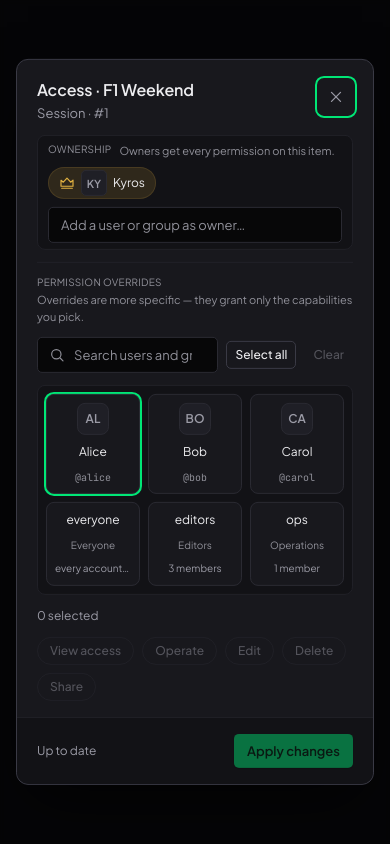
Test case: AccessPanel › keeps Apply disabled until the draft is dirty
Expected: the dropdown labelled "Search users and groups" is shown, [37,337,218,373]
Expected: the button "Apply changes" is disabled, [234,734,353,768]
Step 1. Click the option "BO Bob @bob" → [195, 444], box [148,394,242,494]
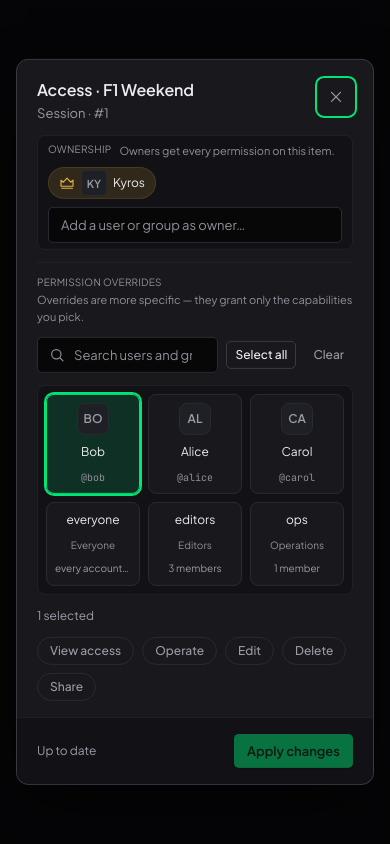
Step 2. Click the button "View access" → [86, 651], box [37,637,134,665]
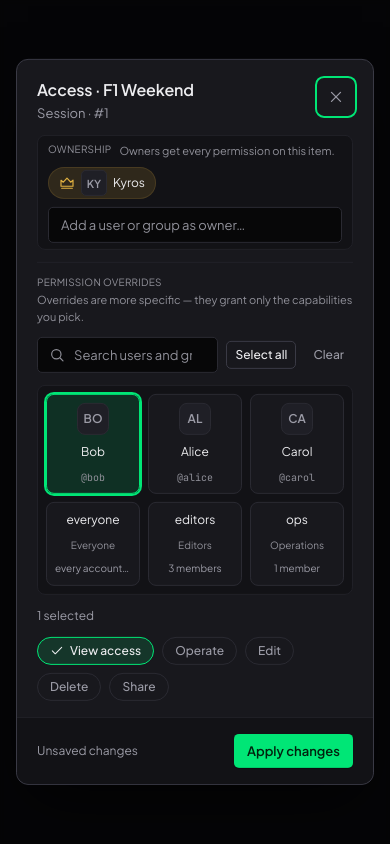
Expected: the button "Apply changes" is enabled, [234,734,353,768]
Expected: the text "Unsaved changes" is shown, [37,742,138,760]
